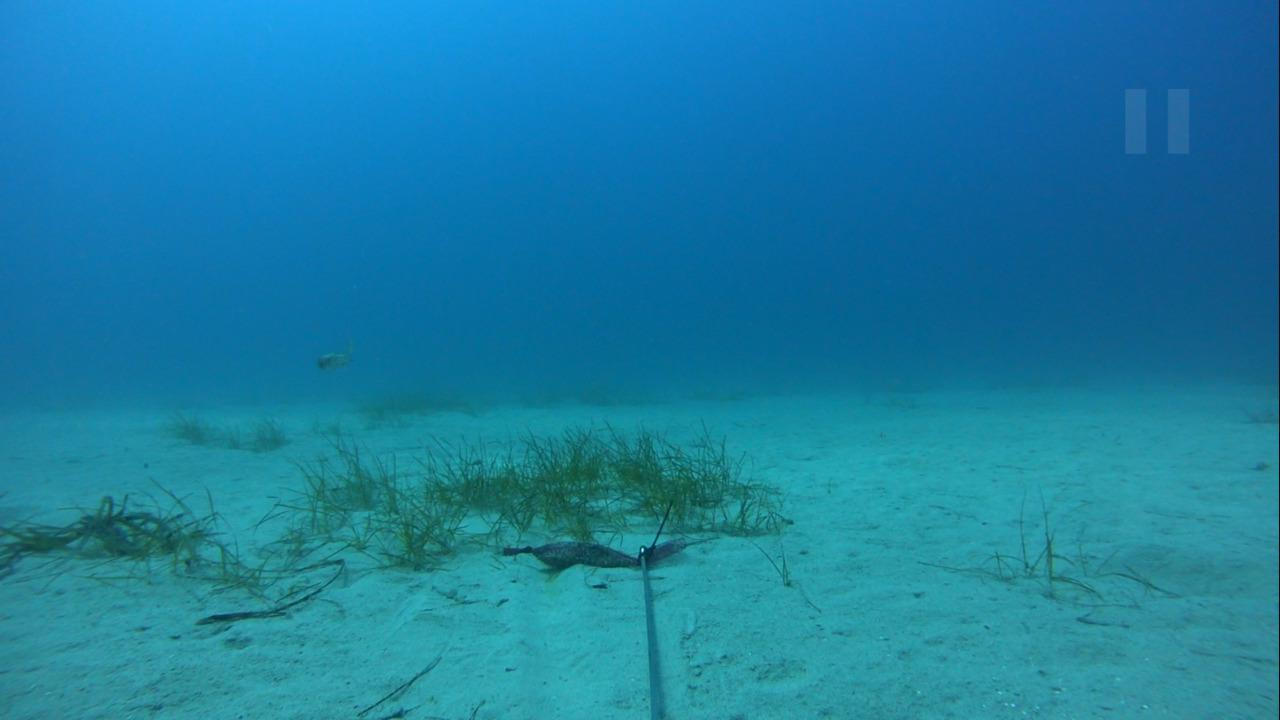dactylopterus: (301, 343, 353, 368)
